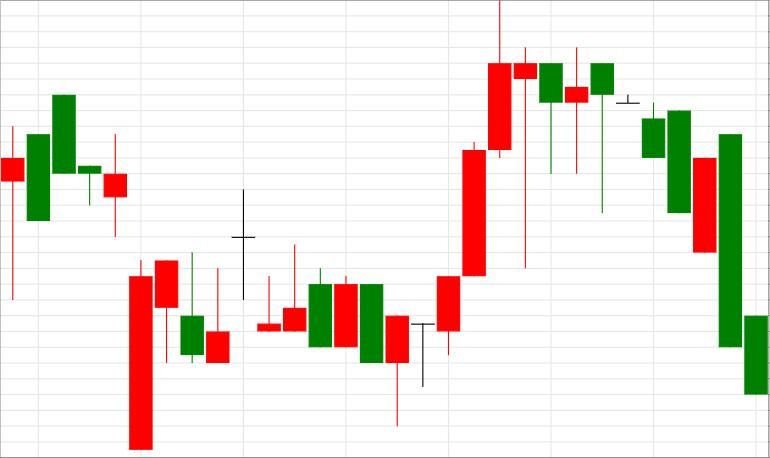hanging_man_fall: (385, 1, 614, 426), (386, 0, 562, 426)
inverse_hammer_rise: (52, 94, 229, 451), (53, 95, 204, 449)
